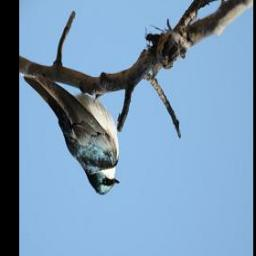Swallow: (23, 73, 122, 198)
